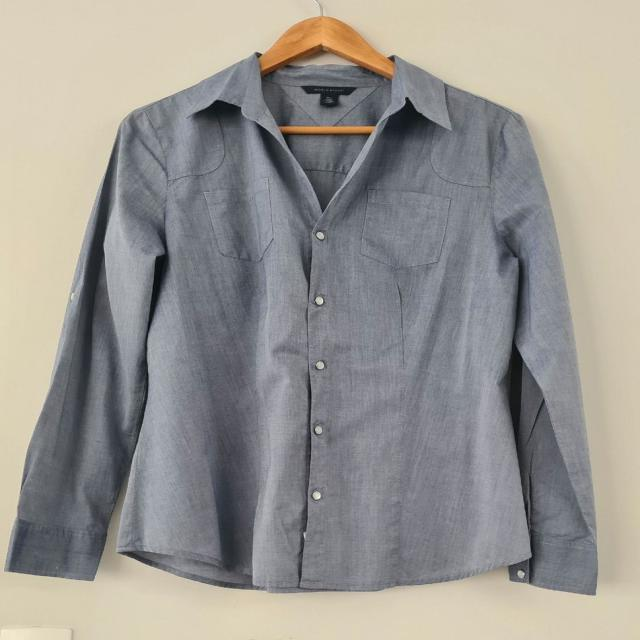long sleeve shirt: (3, 49, 601, 599)
